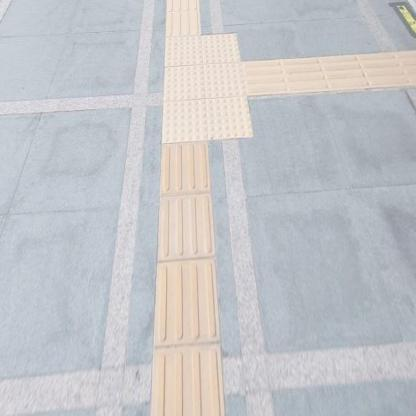podotacti: (155, 143, 228, 415), (153, 22, 272, 164), (249, 54, 415, 96), (164, 0, 203, 34)
